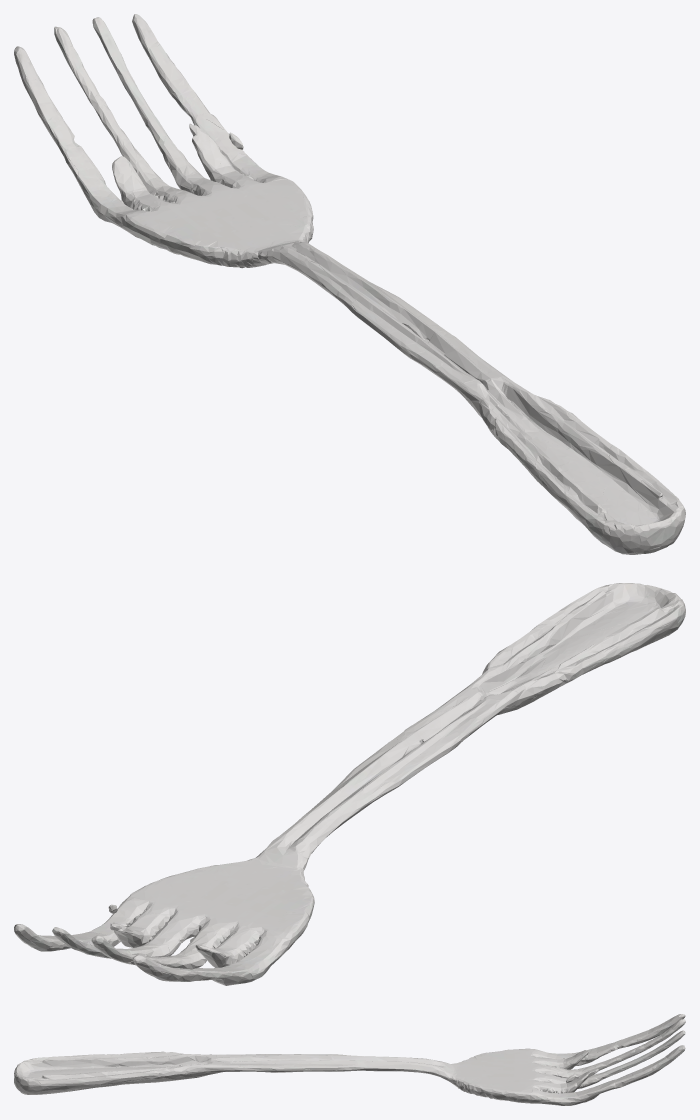
3 renders of one model, top to bottom at view 1: azimuth 30°, elevation 25°; view 2: azimuth 150°, elevation 25°; view 3: azimuth 270°, elevation 25°, orthographic. The views are drawn at different scales.
Visible parts, largest first — view 1: world; view 2: world; view 3: world.
Boxes of the visible parts, left/top/right/bottom form: world: left=14, top=14, right=685, bottom=554; world: left=14, top=583, right=685, bottom=985; world: left=14, top=1014, right=685, bottom=1105.
Size of the model in its own units: 0.1649 by 0.1051 by 1.
1 material, 1 textured.
